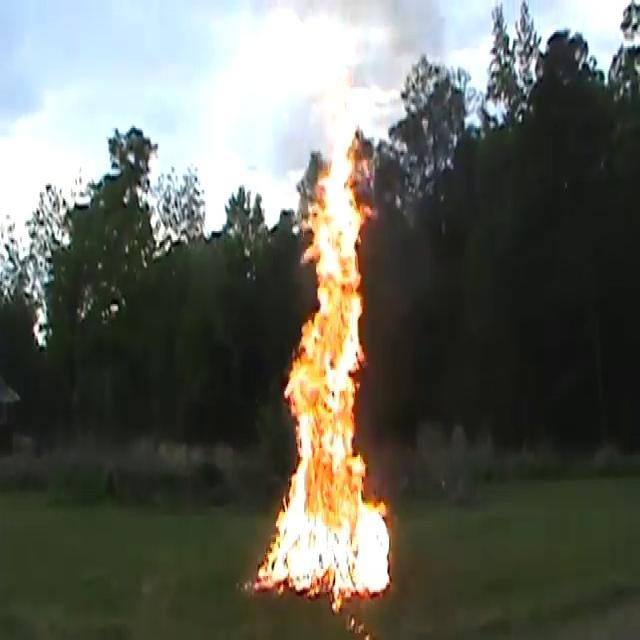Fire: (261, 82, 393, 608)
